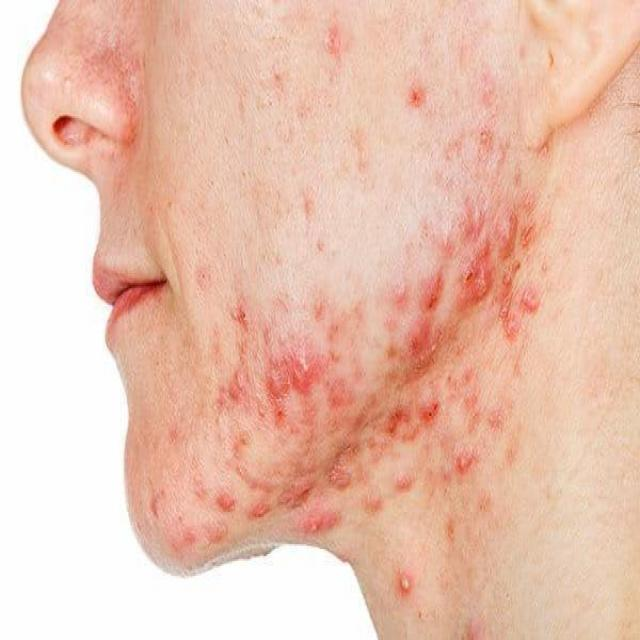8: (399, 73, 433, 123), (355, 477, 388, 523), (211, 480, 242, 520), (453, 438, 480, 481), (248, 495, 278, 532), (392, 463, 419, 496)
9: (388, 556, 422, 615), (466, 115, 501, 167)
blackheads: (393, 253, 446, 382), (374, 384, 458, 446), (260, 335, 320, 421), (288, 490, 353, 549), (453, 238, 496, 322), (496, 196, 539, 266), (317, 435, 360, 491), (518, 270, 552, 322), (320, 367, 352, 419)
dark spot: (188, 229, 229, 315), (308, 60, 349, 136), (257, 52, 291, 123)
